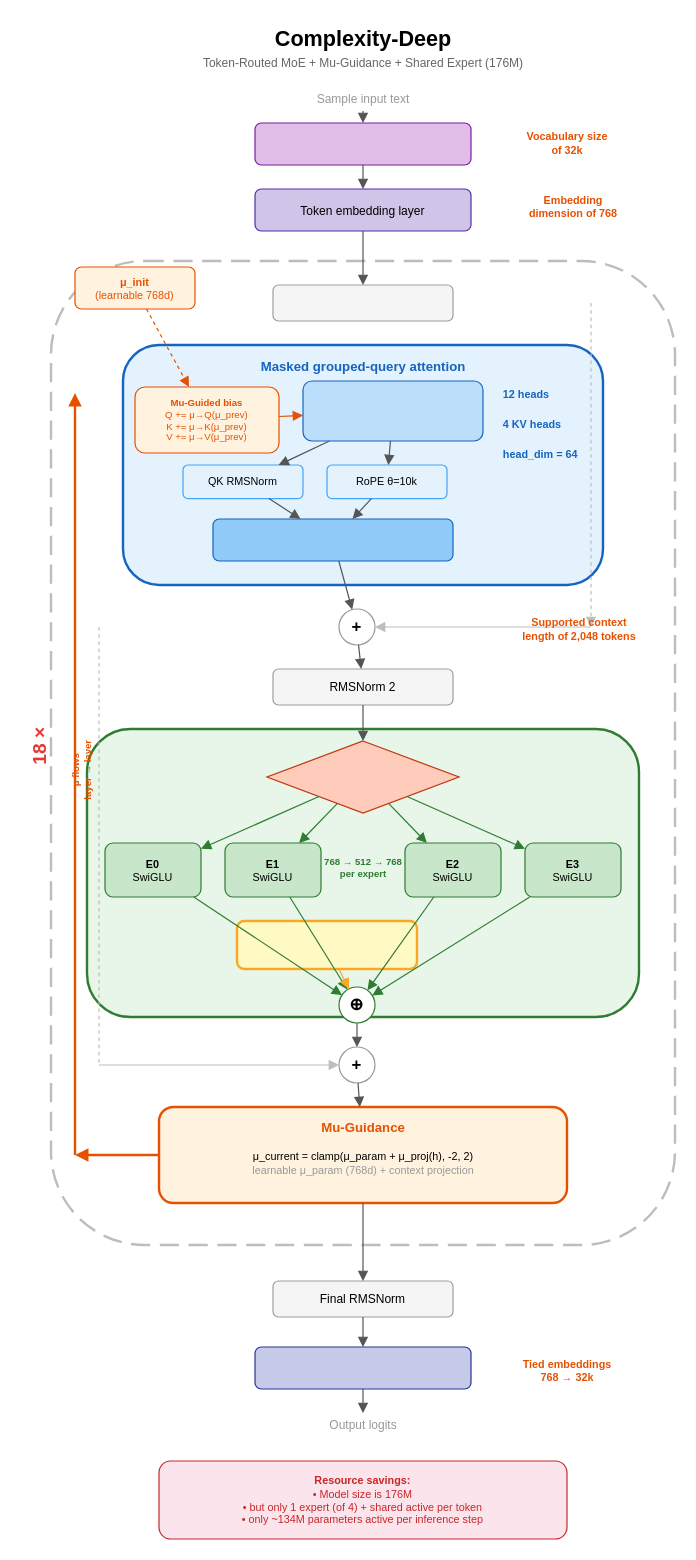
Image size: 696x1560. Some labels were removed from this diagram. Here are the shapes that lost their labels. From the top down, the centre of each, then its label:
(362,143): Tokenized text
(362,302): RMSNorm 1
(392,410): Q Proj: 768 → 768 K Proj: 768 → 256 V Proj: 768 → 256
(332,539): Scaled Dot-Product Attention (causal)
(362,776): Zipf Routing token_to_expert[token_id]
(326,944): Shared Expert SwiGLU 768→512→768
(362,1367): Linear output layer
